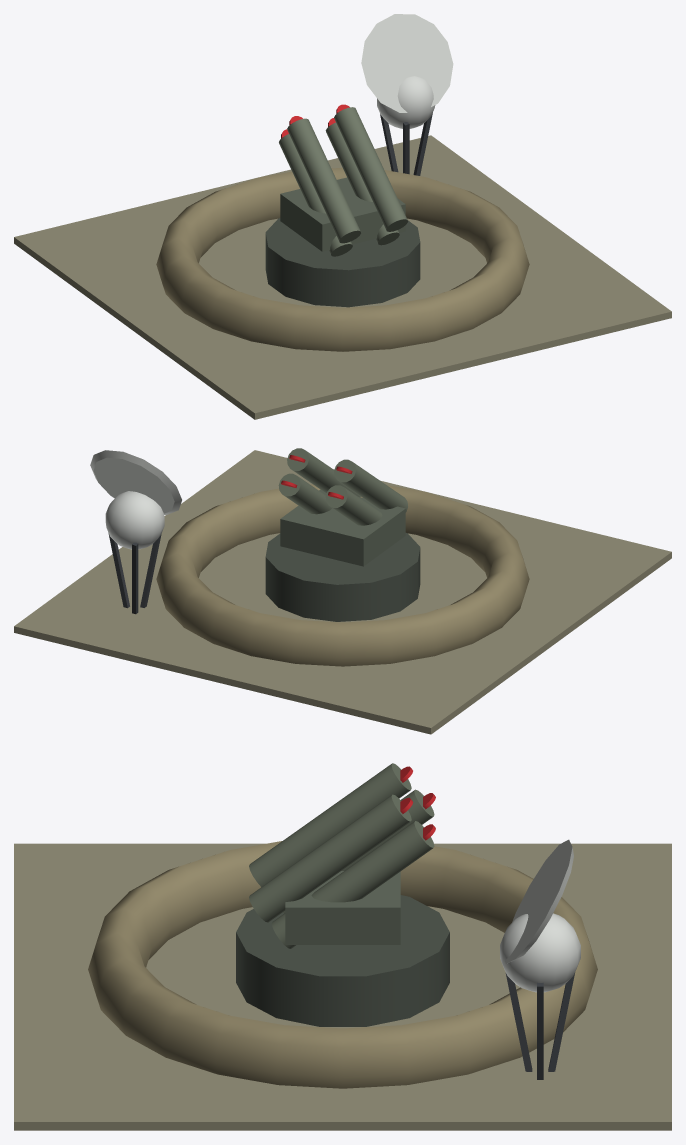
File: air_defense_node.glb
3 views of the same model, one above another, from view 1: azimuth 30°, elevation 25°; view 2: azimuth 150°, elevation 25°; view 3: azimuth 270°, elevation 25° (orthographic). The views are drawn at different scales.
Visible parts, largest first — view 1: _MeshInstance3D_139, _MeshInstance3D_140, _MeshInstance3D_141, Dish, _MeshInstance3D_142, _MeshInstance3D_146, _MeshInstance3D_150, _MeshInstance3D_156, _MeshInstance3D_144, _MeshInstance3D_148; view 2: _MeshInstance3D_139, _MeshInstance3D_140, _MeshInstance3D_141, _MeshInstance3D_142, Dish, _MeshInstance3D_156, _MeshInstance3D_146, _MeshInstance3D_150, _MeshInstance3D_144, _MeshInstance3D_148, _MeshInstance3D_153, _MeshInstance3D_154 (+1 smaller); view 3: _MeshInstance3D_139, _MeshInstance3D_140, _MeshInstance3D_141, _MeshInstance3D_150, _MeshInstance3D_142, _MeshInstance3D_146, _MeshInstance3D_156, _MeshInstance3D_148, Dish, _MeshInstance3D_144, _MeshInstance3D_154, _MeshInstance3D_155 (+1 smaller).
Part boxes in pixels (<box>): _MeshInstance3D_139: <box>14,135,671,419</box>; _MeshInstance3D_140: <box>156,168,529,351</box>; _MeshInstance3D_141: <box>265,218,420,307</box>; Dish: <box>361,14,453,112</box>; _MeshInstance3D_142: <box>280,177,405,251</box>; _MeshInstance3D_146: <box>287,118,360,243</box>; _MeshInstance3D_150: <box>334,107,407,231</box>; _MeshInstance3D_156: <box>377,76,435,128</box>; _MeshInstance3D_144: <box>279,134,352,256</box>; _MeshInstance3D_148: <box>325,122,399,245</box>; _MeshInstance3D_139: <box>14,450,671,734</box>; _MeshInstance3D_140: <box>156,484,529,666</box>; _MeshInstance3D_141: <box>265,533,420,621</box>; _MeshInstance3D_142: <box>280,489,405,566</box>; Dish: <box>90,450,181,514</box>; _MeshInstance3D_156: <box>105,491,164,549</box>; _MeshInstance3D_146: <box>334,459,407,512</box>; _MeshInstance3D_150: <box>287,448,360,497</box>; _MeshInstance3D_144: <box>325,485,382,525</box>; _MeshInstance3D_148: <box>278,473,332,514</box>; _MeshInstance3D_153: <box>108,533,129,608</box>; _MeshInstance3D_154: <box>140,534,161,607</box>; _MeshInstance3D_139: <box>14,843,671,1130</box>; _MeshInstance3D_140: <box>88,841,597,1088</box>; _MeshInstance3D_141: <box>236,895,449,1026</box>; _MeshInstance3D_150: <box>249,794,411,922</box>; _MeshInstance3D_142: <box>285,871,400,944</box>; _MeshInstance3D_146: <box>249,763,411,886</box>; _MeshInstance3D_156: <box>500,913,580,992</box>; _MeshInstance3D_148: <box>271,821,434,948</box>; Dish: <box>505,839,573,963</box>; _MeshInstance3D_144: <box>283,789,434,913</box>; _MeshInstance3D_154: <box>505,973,532,1071</box>; _MeshInstance3D_155: <box>548,972,575,1071</box>.
Size of the model in its own units: 8 by 3.35 by 8.
